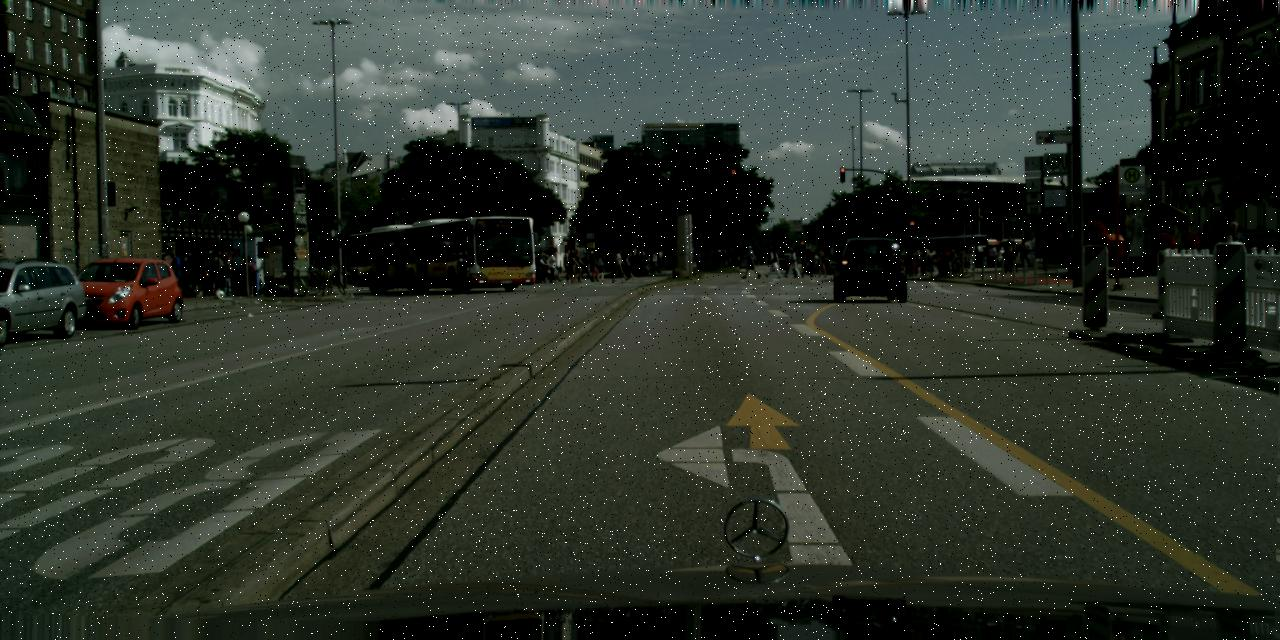ped: (1221, 221, 1247, 285), (205, 248, 224, 295), (196, 250, 214, 296), (177, 248, 195, 292), (186, 248, 203, 294), (220, 252, 233, 297), (166, 252, 181, 290), (1001, 236, 1015, 272), (1017, 237, 1030, 271), (743, 245, 756, 278), (614, 248, 627, 280), (533, 250, 546, 282), (546, 250, 559, 282), (564, 249, 577, 281), (569, 249, 582, 280), (560, 249, 572, 282), (916, 244, 928, 275), (784, 246, 796, 276), (766, 247, 778, 277), (588, 252, 600, 280), (815, 250, 826, 278), (580, 252, 591, 280), (248, 255, 255, 298), (624, 252, 634, 280), (787, 250, 797, 277), (595, 255, 604, 279), (238, 256, 244, 286), (310, 260, 318, 282), (328, 261, 336, 282), (979, 246, 987, 266), (986, 246, 994, 266), (967, 249, 974, 268), (542, 268, 550, 282), (804, 254, 812, 268), (544, 250, 550, 263), (643, 259, 647, 270), (232, 296, 235, 298), (536, 254, 539, 256), (802, 266, 802, 272)
